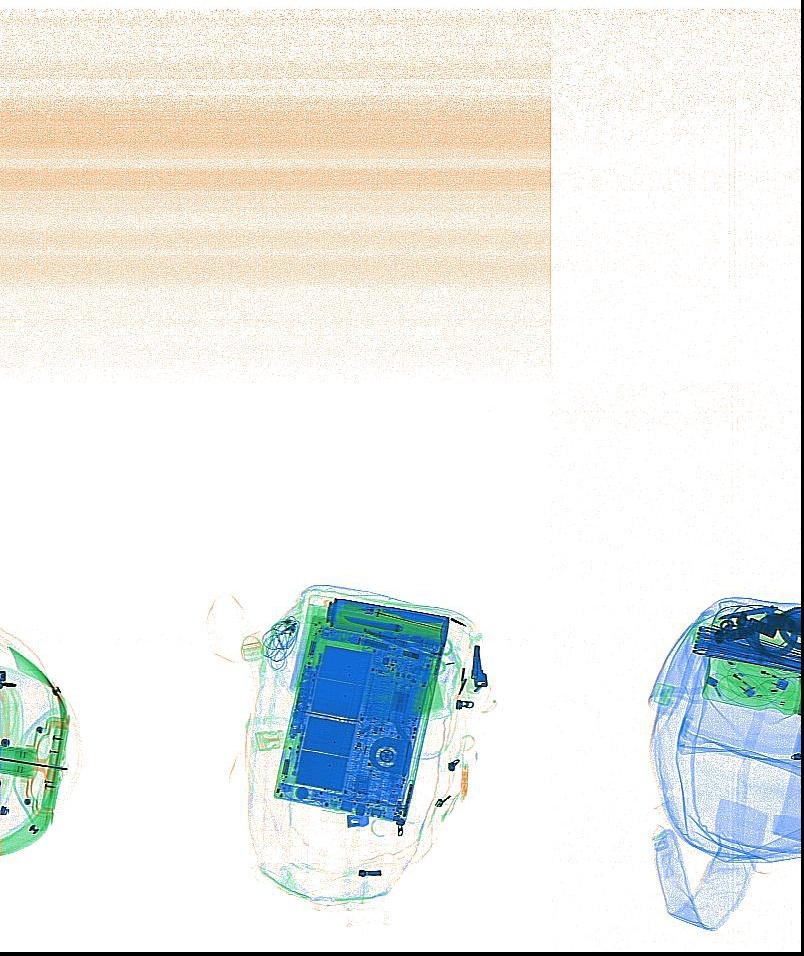handcuffs: (712, 605, 798, 659)
knife: (340, 599, 448, 624), (365, 602, 441, 632), (343, 612, 405, 632)
pressure: (324, 594, 450, 651)
scissors: (362, 624, 452, 673)
